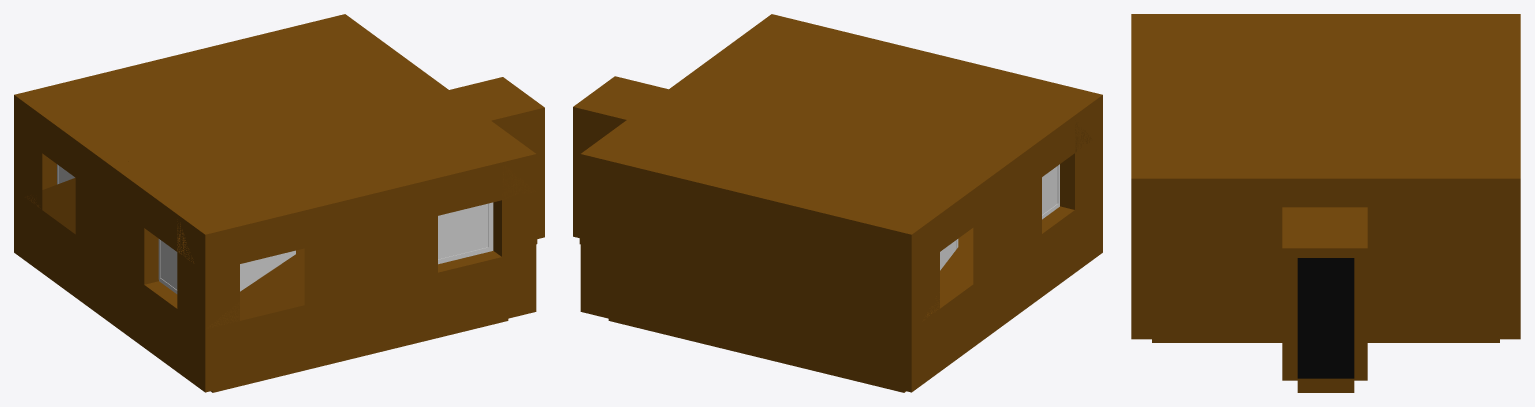
Rendered from Schlafzimmer (1).fbx.
The picture shows the model from 3 angles, left to right: view 1: azimuth 30°, elevation 25°; view 2: azimuth 150°, elevation 25°; view 3: azimuth 270°, elevation 25°; orthographic projection.
Parts seen in each view (by area): view 1: Schlafzimmer, FensterS, FensterS2, FensterS3; view 2: Schlafzimmer, FensterS3; view 3: Schlafzimmer.
Boxes of the visible parts, x1,y1,x2,y2 form: Schlafzimmer: (14, 14, 544, 392); FensterS: (438, 202, 493, 264); FensterS2: (240, 250, 295, 291); FensterS3: (158, 239, 177, 293); Schlafzimmer: (573, 14, 1102, 392); FensterS3: (1042, 164, 1059, 219); Schlafzimmer: (1131, 14, 1520, 392).
Bounding box in the file's own units: 686 × 269 × 549.
